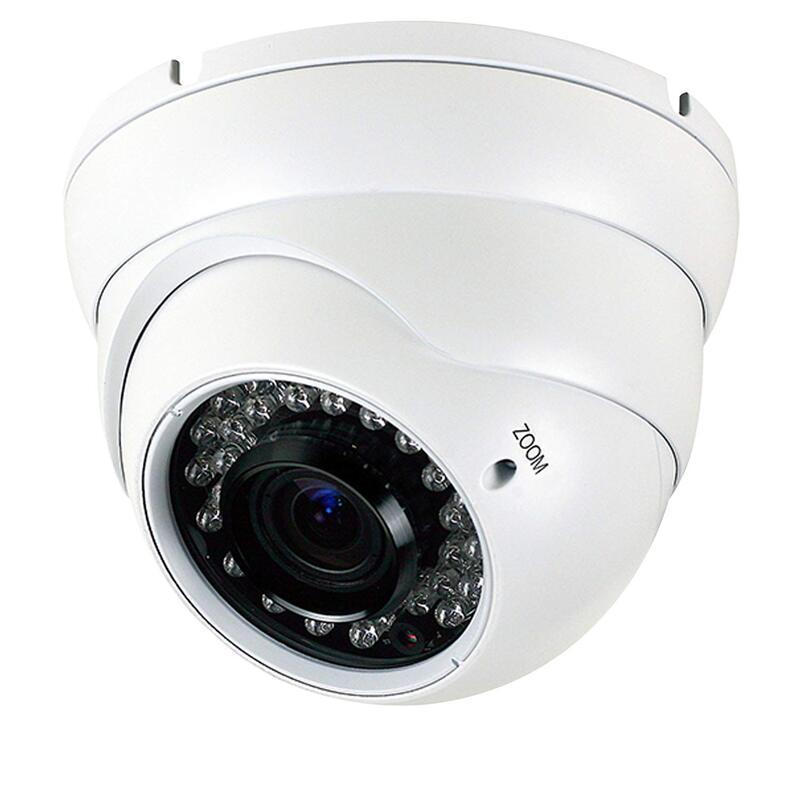turret: (2, 0, 796, 764)
